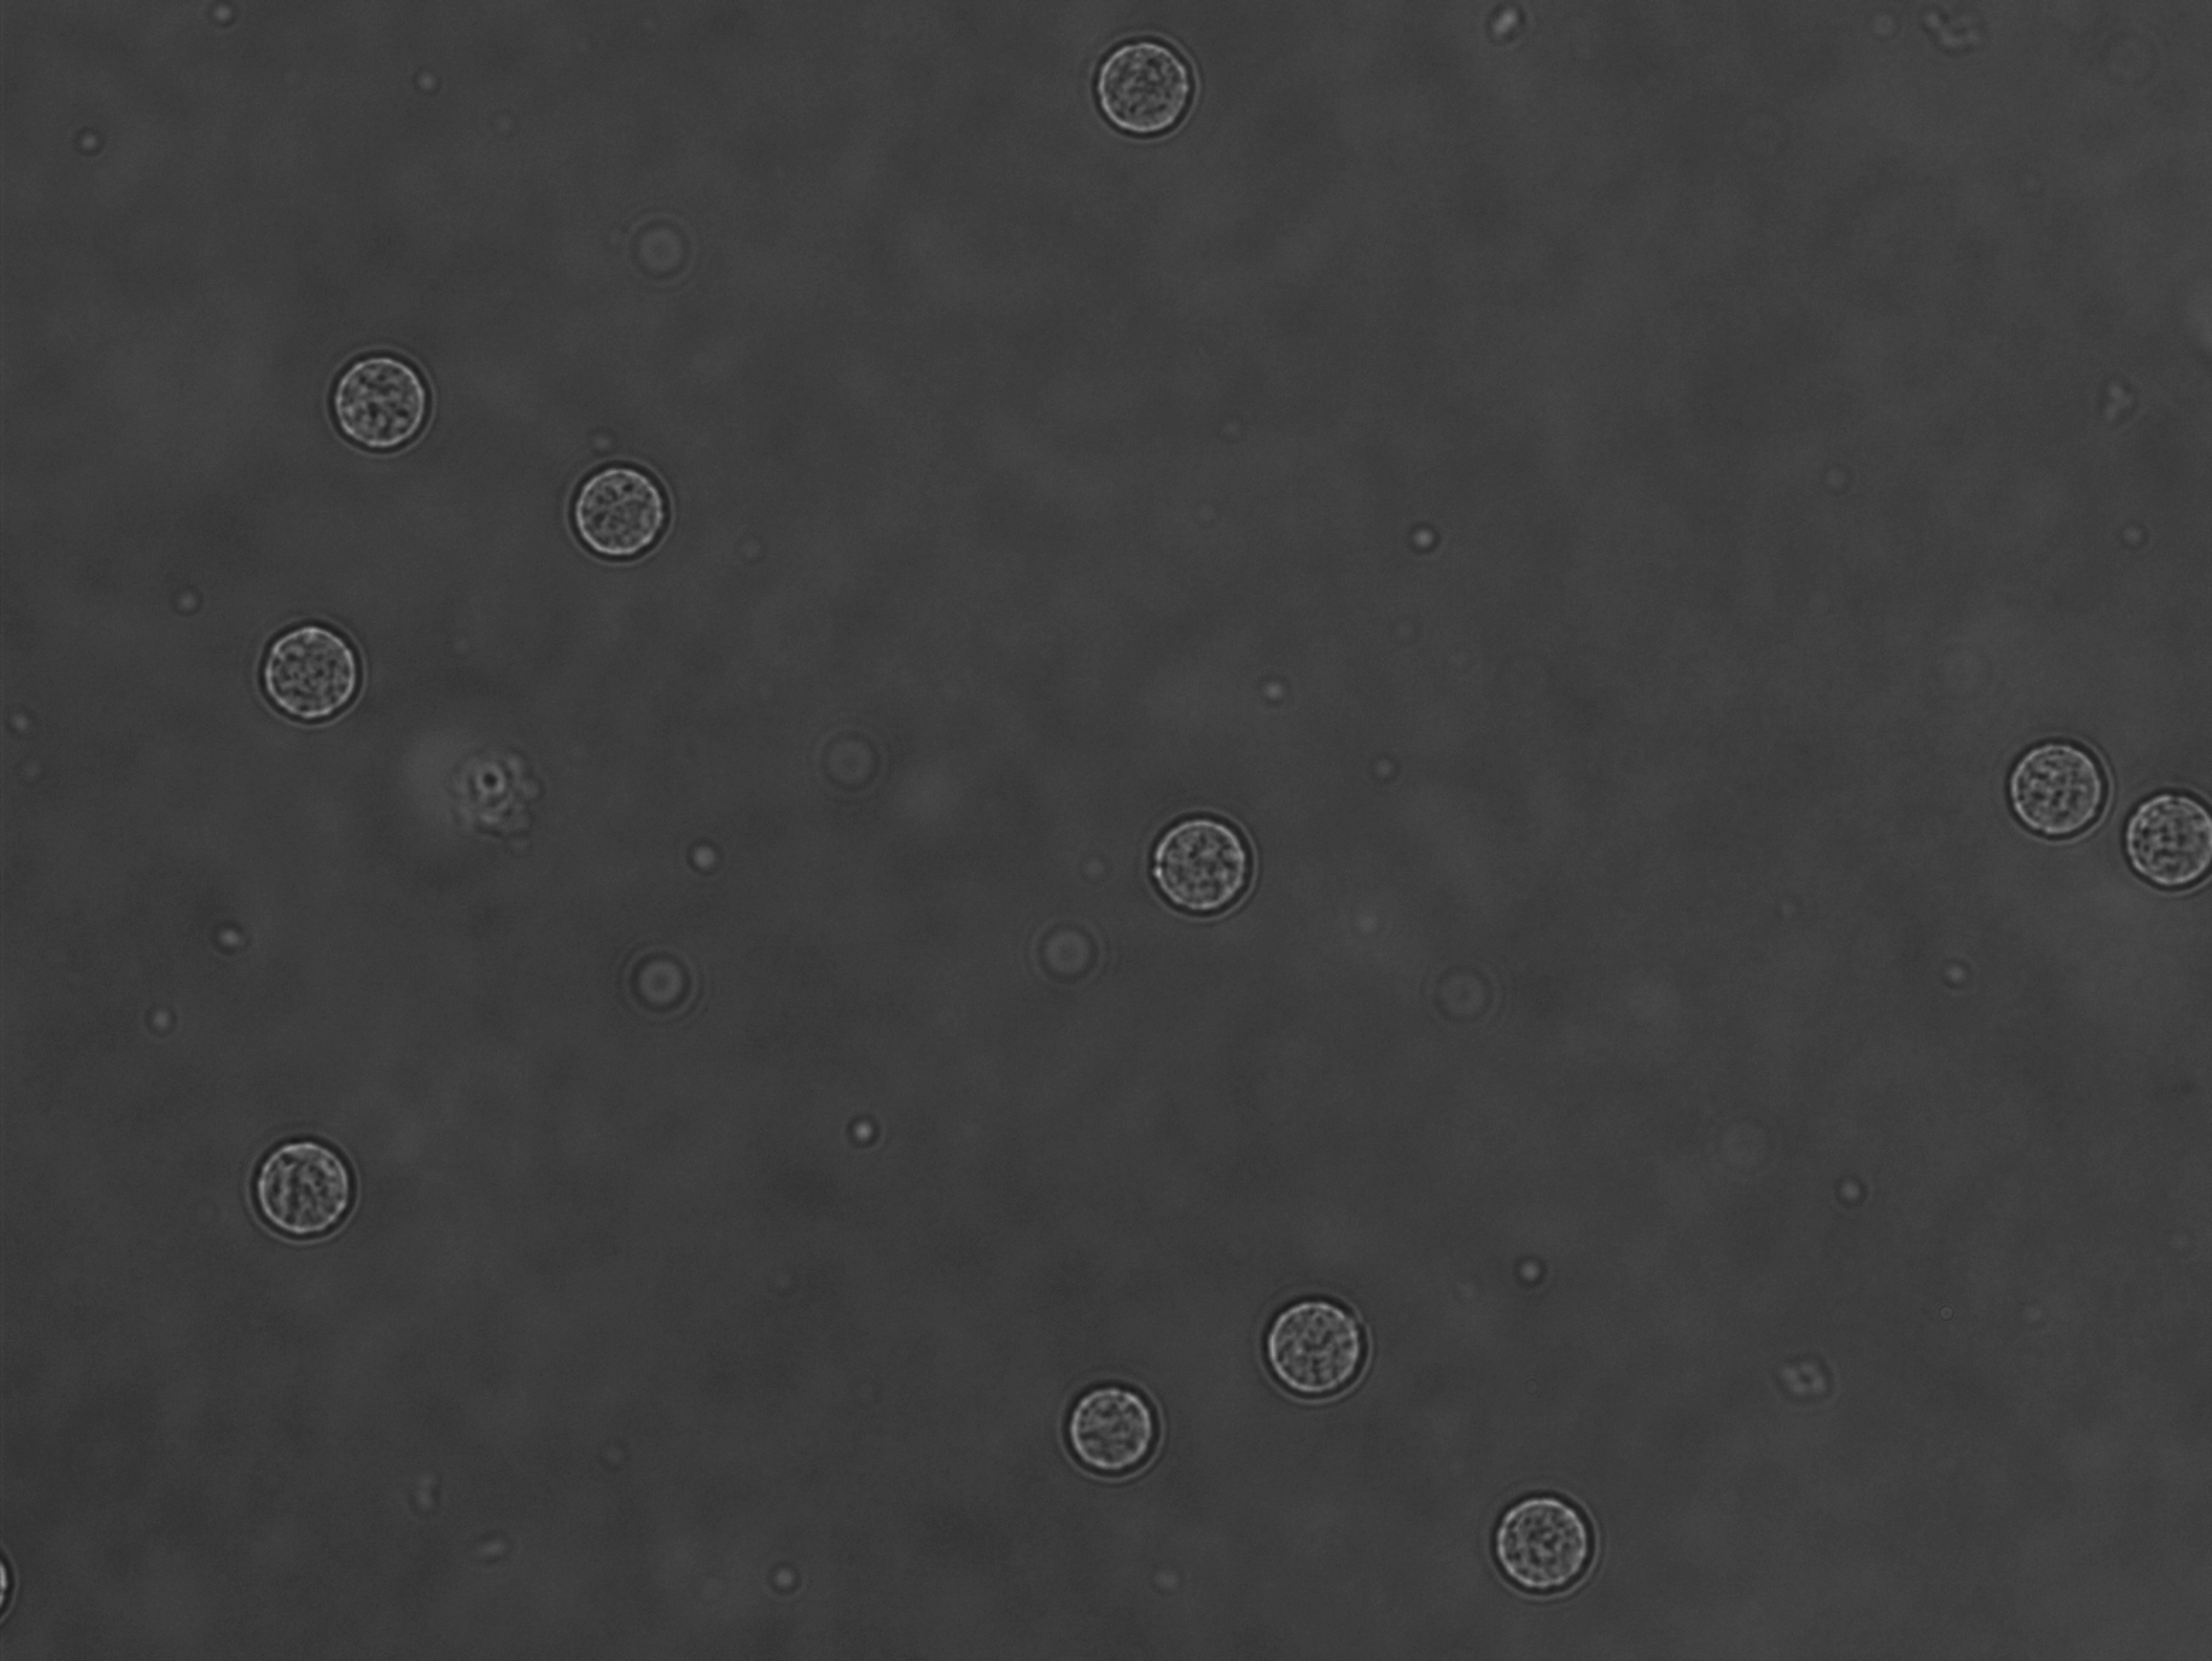depth:0: (232, 1101, 398, 1256), (1471, 1462, 1626, 1621), (234, 590, 389, 740), (1996, 705, 2140, 857), (1139, 792, 1280, 946), (1251, 1270, 1389, 1420), (562, 441, 687, 586), (1057, 1364, 1179, 1495), (2113, 759, 2212, 918), (314, 335, 434, 466), (1078, 24, 1204, 147)
